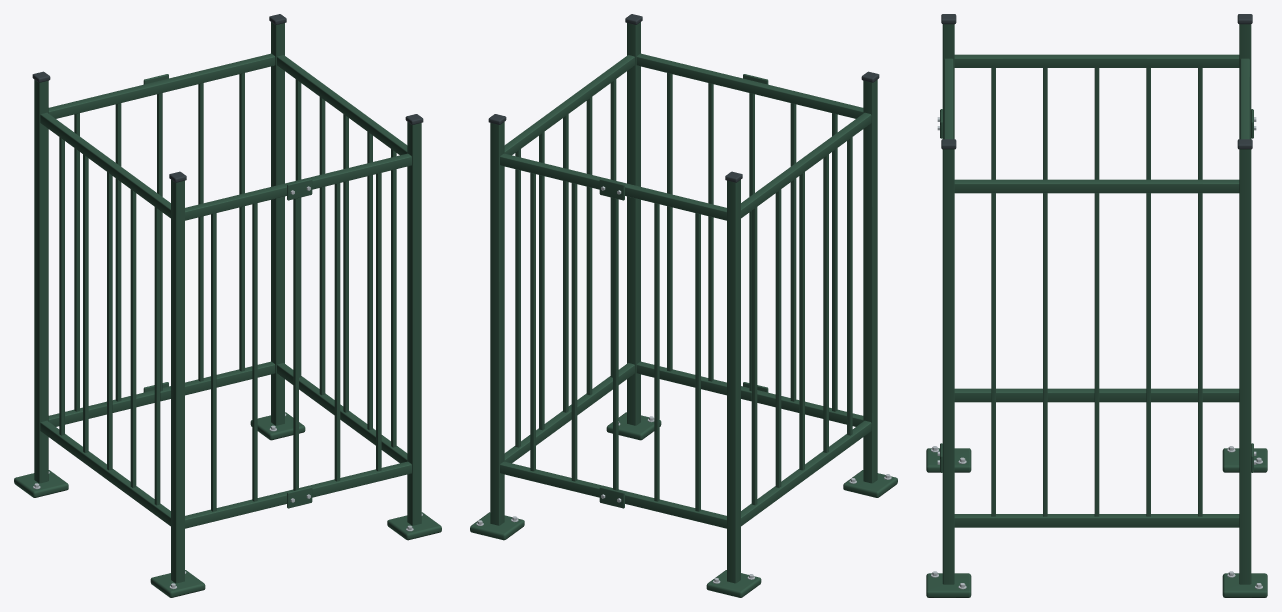
The model's file is city-tree-guard.glb.
3 views of the same model, side by side, from view 1: azimuth 30°, elevation 25°; view 2: azimuth 150°, elevation 25°; view 3: azimuth 270°, elevation 25° (orthographic). The views are drawn at different scales.
Parts seen in each view (by area): view 1: Corner upright.002, Corner upright.001, Corner upright, Corner upright.003, Front and rear cage rail.003, Front and rear cage rail.002, Front and rear cage rail, Front and rear cage rail.001, Front and rear vertical picket.006, Side cage rail.002, Side vertical picket.002, Side vertical picket (+24 smaller); view 2: Corner upright.003, Corner upright, Corner upright.001, Corner upright.002, Front and rear cage rail.002, Front and rear cage rail.003, Front and rear cage rail.001, Front and rear cage rail, Front and rear vertical picket.007, Side cage rail.002, Side vertical picket.006, Side vertical picket.008 (+24 smaller); view 3: Corner upright.002, Corner upright.003, Side cage rail.003, Side cage rail.002, Side cage rail, Side cage rail.001, Side vertical picket.005, Side vertical picket.001, Side vertical picket.003, Side vertical picket.007, Side vertical picket.009, Anchor foot.002 (+12 smaller).
Part boxes in pixels (<box>): Corner upright.002: <box>407,122,421,525</box>; Corner upright.001: <box>34,79,48,483</box>; Corner upright: <box>171,180,184,583</box>; Corner upright.003: <box>271,22,284,425</box>; Front and rear cage rail.003: <box>48,53,275,118</box>; Front and rear cage rail.002: <box>185,153,411,220</box>; Front and rear cage rail: <box>185,461,411,528</box>; Front and rear cage rail.001: <box>48,361,275,426</box>; Front and rear vertical picket.006: <box>334,183,340,481</box>; Side cage rail.002: <box>40,112,170,218</box>; Side vertical picket.002: <box>130,189,136,487</box>; Side vertical picket: <box>154,207,160,505</box>; Corner upright.003: <box>490,122,504,525</box>; Corner upright: <box>863,79,877,483</box>; Corner upright.001: <box>727,180,740,583</box>; Corner upright.002: <box>627,22,640,425</box>; Front and rear cage rail.002: <box>636,53,863,118</box>; Front and rear cage rail.003: <box>500,153,726,220</box>; Front and rear cage rail.001: <box>500,461,726,528</box>; Front and rear cage rail: <box>636,361,863,426</box>; Front and rear vertical picket.007: <box>571,183,577,481</box>; Side cage rail.002: <box>741,112,871,218</box>; Side vertical picket.006: <box>775,189,781,487</box>; Side vertical picket.008: <box>751,207,757,505</box>; Corner upright.002: <box>942,149,954,584</box>; Corner upright.003: <box>1239,149,1251,584</box>; Side cage rail.003: <box>954,179,1239,193</box>; Side cage rail.002: <box>954,54,1239,67</box>; Side cage rail: <box>954,388,1239,402</box>; Side cage rail.001: <box>954,514,1239,527</box>; Side vertical picket.005: <box>1094,193,1099,516</box>; Side vertical picket.001: <box>991,193,995,516</box>; Side vertical picket.003: <box>1043,193,1047,516</box>; Side vertical picket.007: <box>1146,193,1150,516</box>; Side vertical picket.009: <box>1198,193,1202,516</box>; Anchor foot.002: <box>926,573,971,597</box>.
Bounding box in the file's own units: 0.99 × 1.43 × 0.99.
